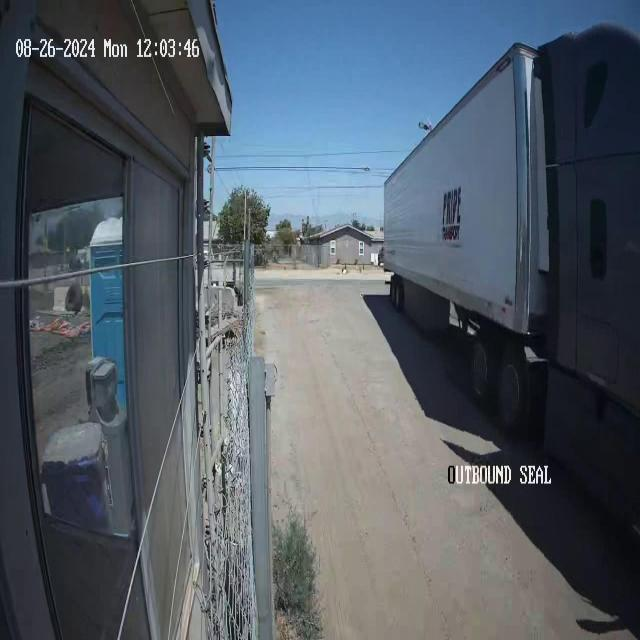TRUCK_CONTAINER: (381, 21, 639, 530)
